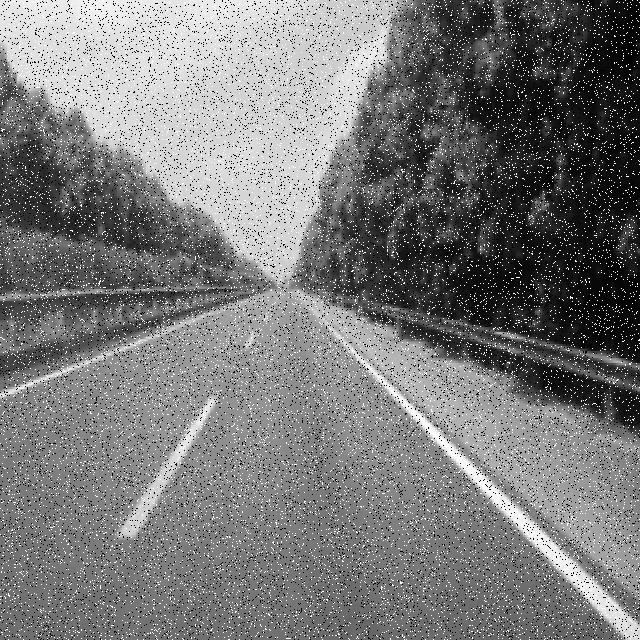clear-road: (0, 292, 623, 640)
